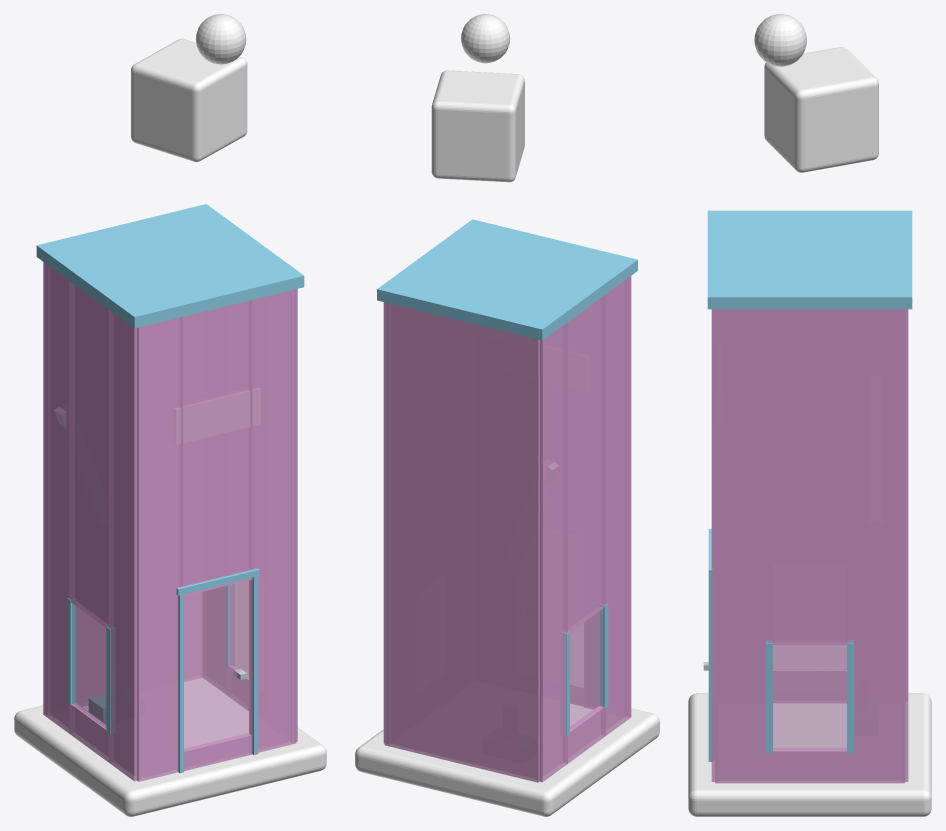
The model's file is fotonight_tower.glb.
3 views of the same model, side by side, from view 1: azimuth 30°, elevation 25°; view 2: azimuth 150°, elevation 25°; view 3: azimuth 270°, elevation 25° (orthographic). The views are drawn at different scales.
Visible parts, largest first — view 1: Shell_Front_Side_-1, Shell_Front_Side_1, Shell_Real_Roof, Shell_Front_Header, Original_solid, Shell_Side_-1_End_1, Shell_Side_-1_Header, Shell_Side_-1_End_-1, Original_roof, Door_Main_Glass, Shell_Back, Window_Right_Glass (+14 smaller); view 2: Shell_Back, Shell_Real_Roof, Shell_Side_-1_End_-1, Shell_Side_-1_Header, Original_solid, Shell_Side_-1_End_1, Original_roof, Window_Right_Glass, Original_emissive_2, Shell_Front_Side_-1, Shell_Side_-1_Sill, WindowFrame_-1_1 (+3 smaller); view 3: Shell_Side_1_Header, Shell_Side_1_End_-1, Shell_Side_1_End_1, Shell_Real_Roof, Original_solid, Original_roof, Window_Left_Glass, Shell_Side_1_Sill, Shell_Side_-1_Sill, Original_emissive_2, Shell_Front_Side_1, Shell_Back (+4 smaller).
Boxes of the visible parts, x1,y1,x2,y2 form: Shell_Front_Side_-1: (136,317,182,781); Shell_Front_Side_1: (249,289,296,754); Shell_Real_Roof: (36,204,304,328); Shell_Front_Header: (183,300,252,595); Original_solid: (14,677,326,816); Shell_Side_-1_End_1: (108,310,139,781); Shell_Side_-1_Header: (69,281,108,627); Shell_Side_-1_End_-1: (43,262,69,733); Original_roof: (131,38,247,162); Door_Main_Glass: (184,580,251,751); Shell_Back: (77,592,202,706); Window_Right_Glass: (72,603,106,728); Shell_Back: (384,302,540,782); Shell_Real_Roof: (377,219,637,340); Shell_Side_-1_End_-1: (538,322,567,782); Shell_Side_-1_Header: (568,294,605,632); Original_solid: (355,703,659,816); Shell_Side_-1_End_1: (606,276,631,735); Original_roof: (431,70,524,182); Window_Right_Glass: (570,609,602,730); Original_emissive_2: (461,14,510,63); Shell_Front_Side_-1: (584,612,598,709); Shell_Side_-1_Sill: (568,706,605,763); WindowFrame_-1_1: (599,603,608,708); Shell_Side_1_Header: (769,309,850,644); Shell_Side_1_End_-1: (850,309,904,783); Shell_Side_1_End_1: (715,309,769,783); Shell_Real_Roof: (707,210,912,309); Original_solid: (688,693,931,816); Original_roof: (764,47,878,172); Window_Left_Glass: (773,645,846,750); Shell_Side_1_Sill: (769,748,850,783); Shell_Side_-1_Sill: (773,669,846,702); Original_emissive_2: (754,14,806,66); Shell_Front_Side_1: (711,309,714,781); Shell_Back: (905,309,908,781).
Bounding box in the file's own units: 1.66 × 5.8 × 1.66.
